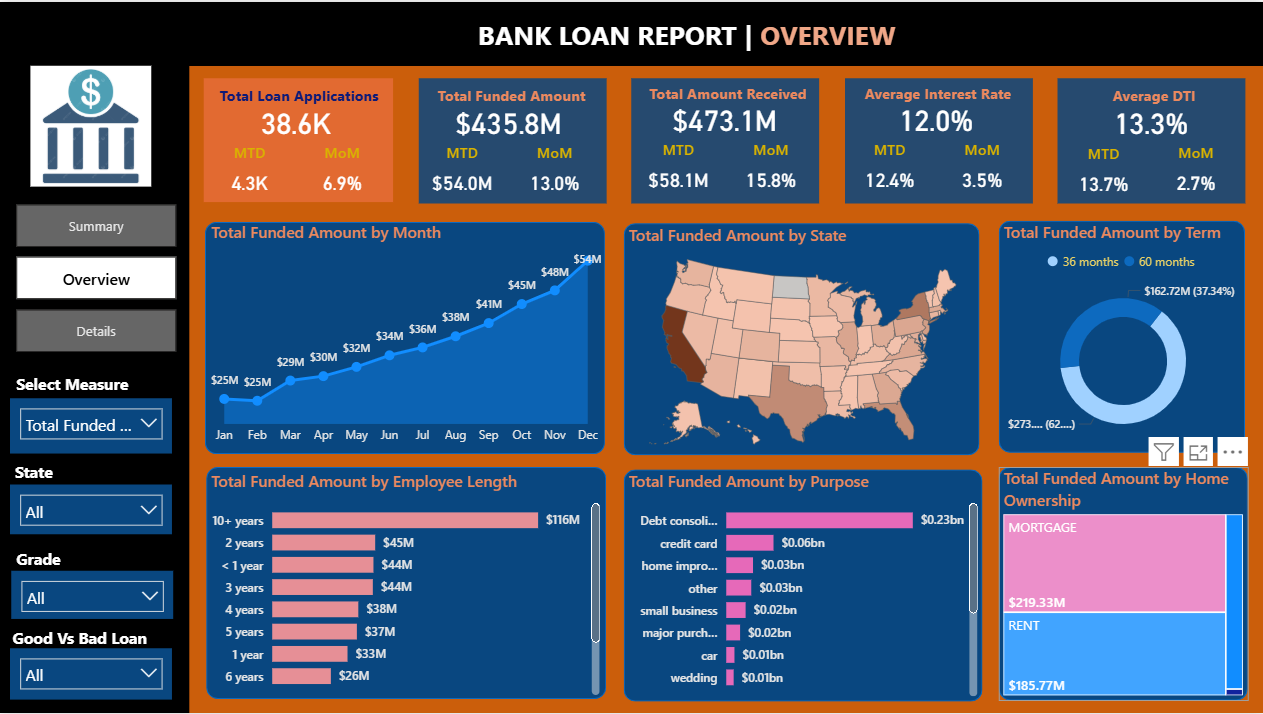

Layout of this report page (visuals, bound fields, positions):
{"tool":"powerbi","page":{"name":"Overview","canvas":[1280,720],"ordinal":1},"visuals":[{"type":"card","fields":{"Values":["bank_loan_db bank_loan.Total Amount Recieved"]},"box":[640.2,77.8,186.8,83.7],"z":0,"group":"g3"},{"type":"card","fields":{"Values":["bank_loan_db bank_loan.Average Interset Rate"]},"box":[855,77.8,186.8,83.7],"z":0,"group":"g4"},{"type":"card","fields":{"Values":["bank_loan_db bank_loan.Total Loan Applications"]},"box":[206.3,79.3,186.8,83.7],"z":0,"group":"g1"},{"type":"card","fields":{"Values":["bank_loan_db bank_loan.Total Funded Amount"]},"box":[421.1,79.3,186.8,83.7],"z":0,"group":"g2"},{"type":"card","fields":{"Values":["bank_loan_db bank_loan.Average DTI"]},"box":[1071.7,79.3,186.8,83.7],"z":0,"group":"g5"},{"type":"shape","box":[207.3,222.6,405,235],"z":0},{"type":"shape","box":[0,0,1280,54.3],"z":1000},{"type":"textbox","box":[640.2,77.8,193.3,54.8],"z":1000,"group":"g3"},{"type":"textbox","box":[855,77.8,193.3,54.8],"z":1000,"group":"g4"},{"type":"textbox","box":[206.3,79.3,193.3,54.8],"z":1000,"group":"g1"},{"type":"textbox","box":[421.1,79.3,193.3,54.8],"z":1000,"group":"g2"},{"type":"textbox","box":[1071.7,79.3,193.3,54.8],"z":1000,"group":"g5"},{"type":"textbox","box":[430.7,0,510.3,54.3],"z":2000},{"type":"card","title":"MTD","fields":{"Values":["bank_loan_db bank_loan.MTD Total Amount Recieved"]},"box":[640,139.7,93.3,63.4],"z":2000,"group":"g3"},{"type":"card","title":"MTD","fields":{"Values":["bank_loan_db bank_loan.MTD Avrage Interset Rate"]},"box":[854.8,139.7,93.3,63.4],"z":2000,"group":"g4"},{"type":"card","title":"MTD","fields":{"Values":["bank_loan_db bank_loan.MTD Loan Applications"]},"box":[206.1,141.2,93.3,63.4],"z":2000,"group":"g1"},{"type":"card","title":"MTD","fields":{"Values":["bank_loan_db bank_loan.MTD Total Funded Amount"]},"box":[420.9,141.2,93.3,63.4],"z":2000,"group":"g2"},{"type":"card","title":"MTD","fields":{"Values":["bank_loan_db bank_loan.MTD Average DTI"]},"box":[1071,142,93.7,63.4],"z":2000,"group":"g5"},{"type":"shape","box":[206.1,77.8,191.7,125.4],"z":3000},{"type":"card","title":"MoM","fields":{"Values":["bank_loan_db bank_loan.MoM Total Amount Received"]},"box":[733.3,139.7,93.3,63.4],"z":3000,"group":"g3"},{"type":"card","title":"MoM","fields":{"Values":["bank_loan_db bank_loan.MoM Average Interest Rate"]},"box":[948.1,139.7,93.3,63.4],"z":3000,"group":"g4"},{"type":"card","title":"MoM","fields":{"Values":["bank_loan_db bank_loan.MoM Loan Applications"]},"box":[299.4,141.2,93.3,63.4],"z":3000,"group":"g1"},{"type":"card","title":"MoM","fields":{"Values":["bank_loan_db bank_loan.MoM Total Funded Amount"]},"box":[514.2,141.2,93.3,63.4],"z":3000,"group":"g2"},{"type":"card","title":"MoM","fields":{"Values":["bank_loan_db bank_loan.MoM Average DTI"]},"box":[1164.8,141.2,93.3,63.4],"z":3000,"group":"g5"},{"type":"group","id":"g1","title":"Group 1","box":[206.1,79.3,193.2,125.4],"z":4000},{"type":"shape","box":[423.4,77.8,190.3,126.8],"z":5000},{"type":"group","id":"g2","title":"Group 1","box":[420.9,79.3,193.2,125.4],"z":6000},{"type":"shape","box":[639.3,77.8,190.3,126.8],"z":7000},{"type":"group","id":"g3","title":"Group 1","box":[640,77.8,193.2,125.4],"z":8000},{"type":"shape","box":[855.1,77.8,190.3,126.8],"z":9000},{"type":"group","id":"g4","title":"Group 1","box":[854.8,77.8,193.2,125.4],"z":10000},{"type":"shape","box":[0,54.8,191.7,665.9],"z":11000},{"type":"shape","box":[1071,77.8,190.3,126.8],"z":12000},{"type":"group","id":"g5","title":"Group 1","box":[1071,79.3,193.2,125.4],"z":13000},{"type":"slicer","fields":{"Values":["bank_loan_db bank_loan.address_state"]},"box":[10.1,488.6,164.3,50.5],"z":14000},{"type":"textbox","box":[10.1,459.8,82.2,57.7],"z":15000},{"type":"textbox","box":[11.5,547.7,82.2,57.7],"z":16000},{"type":"slicer","fields":{"Values":["bank_loan_db bank_loan.grade"]},"box":[11.5,576.6,164.3,49],"z":17000},{"type":"slicer","fields":{"Values":["bank_loan_db bank_loan.Good Vs Bad Loan"]},"box":[10.1,654.4,164.3,51.9],"z":18000},{"type":"textbox","box":[7.2,628.5,167.2,50.5],"z":19000},{"type":"slicer","fields":{"Values":["Select Measure.Select Measure"]},"box":[10.1,400.7,164.3,56.2],"z":20000},{"type":"textbox","box":[11.5,370.5,152.8,36],"z":21000},{"type":"areaChart","fields":{"Y":["bank_loan_db bank_loan.Total Funded Amount"],"Category":["Date Table.Month"]},"box":[209,222,405,235],"z":22000},{"type":"shape","box":[631.9,223.4,360.4,235],"z":23000},{"type":"shapeMap","fields":{"Value":["bank_loan_db bank_loan.Total Funded Amount"],"Category":["bank_loan_db bank_loan.address_state"]},"box":[631.4,223.4,363.2,239.3],"z":24000},{"type":"shape","box":[1011.9,222,249.4,235],"z":25000},{"type":"donutChart","fields":{"Y":["bank_loan_db bank_loan.Total Funded Amount"],"Category":["bank_loan_db bank_loan.term"]},"box":[1011.9,222,252.3,235],"z":26000},{"type":"shape","box":[209,471.4,405,235],"z":27000},{"type":"shape","box":[1011.9,471.4,252.3,236.4],"z":28000},{"type":"shape","box":[631.4,472.8,363.2,235],"z":29000},{"type":"barChart","fields":{"Y":["bank_loan_db bank_loan.Total Funded Amount"],"Category":["bank_loan_db bank_loan.emp_length"]},"box":[209,472.8,403.6,233.5],"z":30000},{"type":"barChart","fields":{"Y":["bank_loan_db bank_loan.Total Funded Amount"],"Category":["bank_loan_db bank_loan.purpose"]},"box":[631.4,472.8,363.2,235],"z":31000},{"type":"treemap","fields":{"Values":["bank_loan_db bank_loan.Total Funded Amount"],"Group":["bank_loan_db bank_loan.home_ownership"]},"box":[1011.9,471.4,252.3,236.4],"z":32000},{"type":"pageNavigator","box":[15.9,204.7,162.9,151.4],"z":33000},{"type":"shape","box":[0,0,1280,64.9],"z":34000},{"type":"image","box":[23.1,64.9,138.4,122.5],"z":35000},{"type":"textbox","box":[440.7,10,510.3,54.3],"z":36000}]}

Visuals, with their boxes in screenshot pixels (x1, y1, x2, y2), scaled from the page's 1280x720 canvas onto the 1263x714 screenshot:
card - bank_loan_db bank_loan.Total Amount Recieved: region(632, 77, 816, 160)
card - bank_loan_db bank_loan.Average Interset Rate: region(844, 77, 1028, 160)
card - bank_loan_db bank_loan.Total Loan Applications: region(204, 79, 388, 162)
card - bank_loan_db bank_loan.Total Funded Amount: region(416, 79, 600, 162)
card - bank_loan_db bank_loan.Average DTI: region(1057, 79, 1242, 162)
shape: region(205, 221, 604, 454)
shape: region(0, 0, 1262, 54)
textbox: region(632, 77, 822, 131)
textbox: region(844, 77, 1034, 131)
textbox: region(204, 79, 394, 133)
textbox: region(416, 79, 606, 133)
textbox: region(1057, 79, 1248, 133)
textbox: region(425, 0, 929, 54)
"MTD" card: region(632, 139, 724, 201)
"MTD" card: region(843, 139, 936, 201)
"MTD" card: region(203, 140, 295, 203)
"MTD" card: region(415, 140, 507, 203)
"MTD" card: region(1057, 141, 1149, 204)
shape: region(203, 77, 393, 202)
"MoM" card: region(724, 139, 816, 201)
"MoM" card: region(936, 139, 1028, 201)
"MoM" card: region(295, 140, 387, 203)
"MoM" card: region(507, 140, 599, 203)
"MoM" card: region(1149, 140, 1241, 203)
"Group 1" group: region(203, 79, 394, 203)
shape: region(418, 77, 606, 203)
"Group 1" group: region(415, 79, 606, 203)
shape: region(631, 77, 819, 203)
"Group 1" group: region(632, 77, 822, 202)
shape: region(844, 77, 1032, 203)
"Group 1" group: region(843, 77, 1034, 202)
shape: region(0, 54, 189, 713)
shape: region(1057, 77, 1245, 203)
"Group 1" group: region(1057, 79, 1247, 203)
slicer - bank_loan_db bank_loan.address_state: region(10, 485, 172, 535)
textbox: region(10, 456, 91, 513)
textbox: region(11, 543, 92, 600)
slicer - bank_loan_db bank_loan.grade: region(11, 572, 173, 620)
slicer - bank_loan_db bank_loan.Good Vs Bad Loan: region(10, 649, 172, 700)
textbox: region(7, 623, 172, 673)
slicer - Select Measure.Select Measure: region(10, 397, 172, 453)
textbox: region(11, 367, 162, 403)
areaChart - bank_loan_db bank_loan.Total Funded Amount x Date Table.Month: region(206, 220, 606, 453)
shape: region(624, 222, 979, 455)
shapeMap - bank_loan_db bank_loan.Total Funded Amount x bank_loan_db bank_loan.address_state: region(623, 222, 981, 459)
shape: region(998, 220, 1245, 453)
donutChart - bank_loan_db bank_loan.Total Funded Amount x bank_loan_db bank_loan.term: region(998, 220, 1247, 453)
shape: region(206, 467, 606, 701)
shape: region(998, 467, 1247, 702)
shape: region(623, 469, 981, 702)
barChart - bank_loan_db bank_loan.Total Funded Amount x bank_loan_db bank_loan.emp_length: region(206, 469, 604, 700)
barChart - bank_loan_db bank_loan.Total Funded Amount x bank_loan_db bank_loan.purpose: region(623, 469, 981, 702)
treemap - bank_loan_db bank_loan.Total Funded Amount x bank_loan_db bank_loan.home_ownership: region(998, 467, 1247, 702)
pageNavigator: region(16, 203, 176, 353)
shape: region(0, 0, 1262, 64)
image: region(23, 64, 159, 186)
textbox: region(435, 10, 938, 64)
